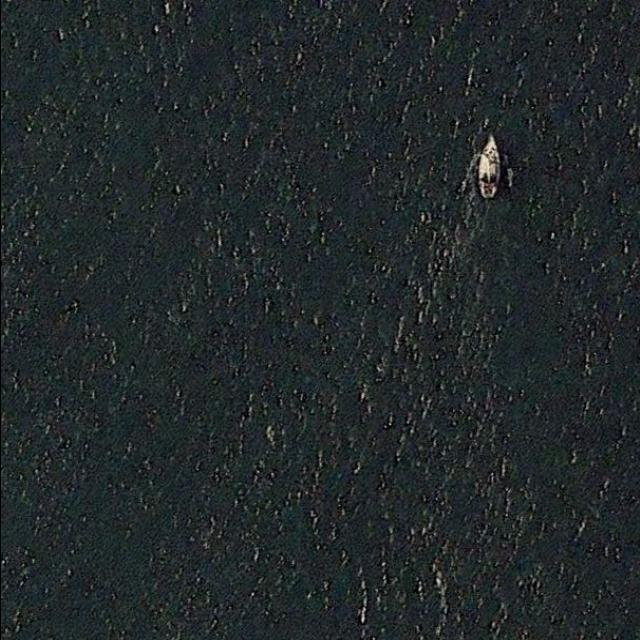ship: (477, 132, 502, 200)
